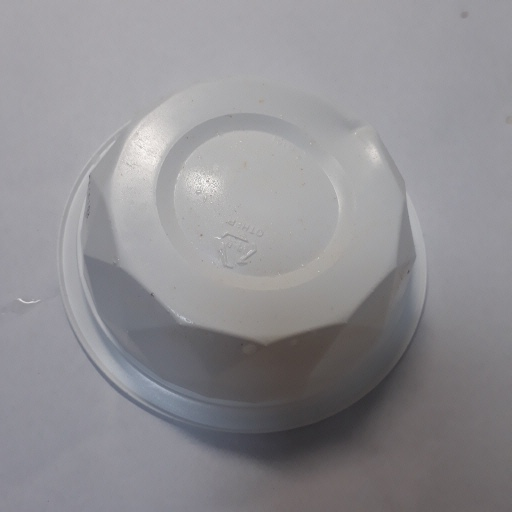Plastic_5: (61, 77, 428, 446)
